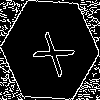X: (25, 25, 76, 78)
